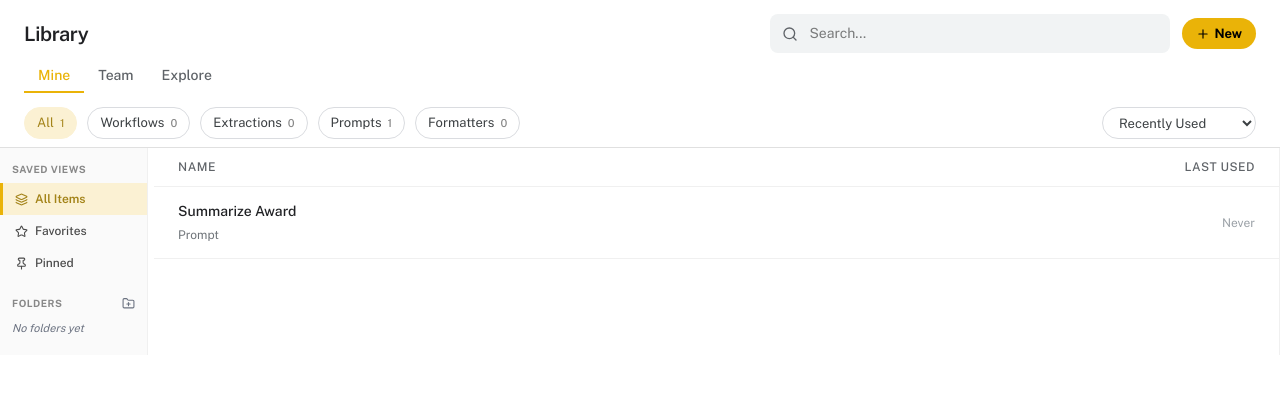
Test case: LibraryTab prompt preview › sends the prompt to the assistant from the Use in Assistant button
This screenshot has width=1280, height=396.
Click the text "Summarize Award" at (237, 211), box [178,203,296,219]
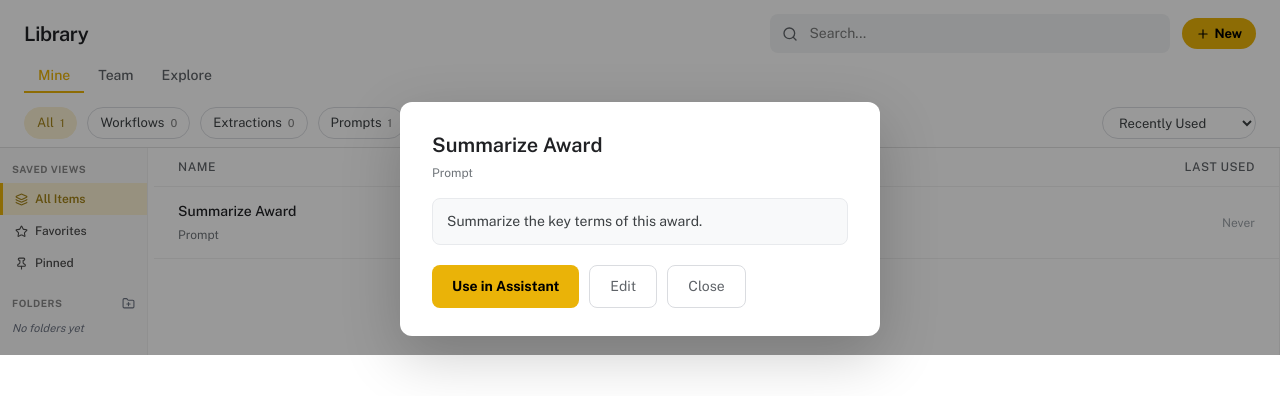
Expected: the text "Summarize the key terms of this award." is shown, [432,198,848,245]
Click the button "Use in Assistant" at (506, 287), box [432,265,579,308]
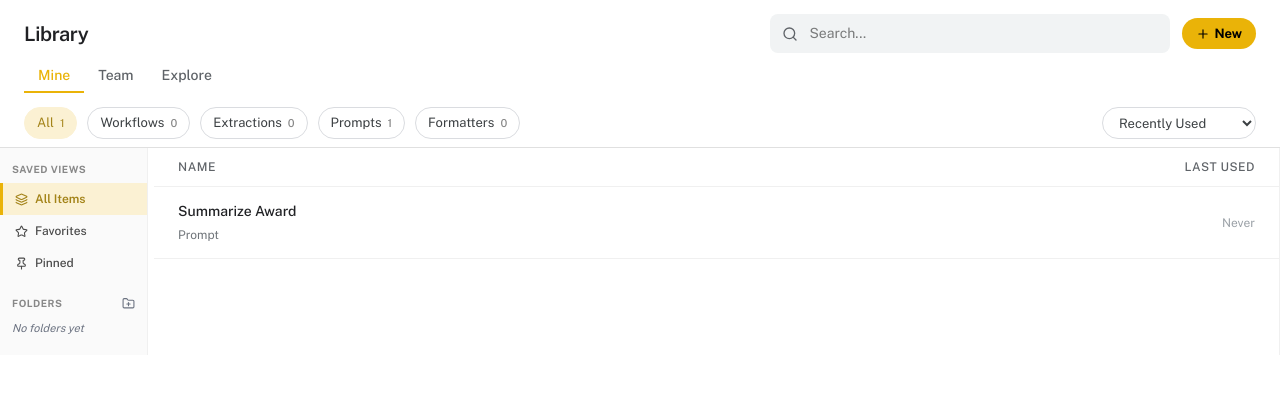
Expected: the button "Use in Assistant" is gone
